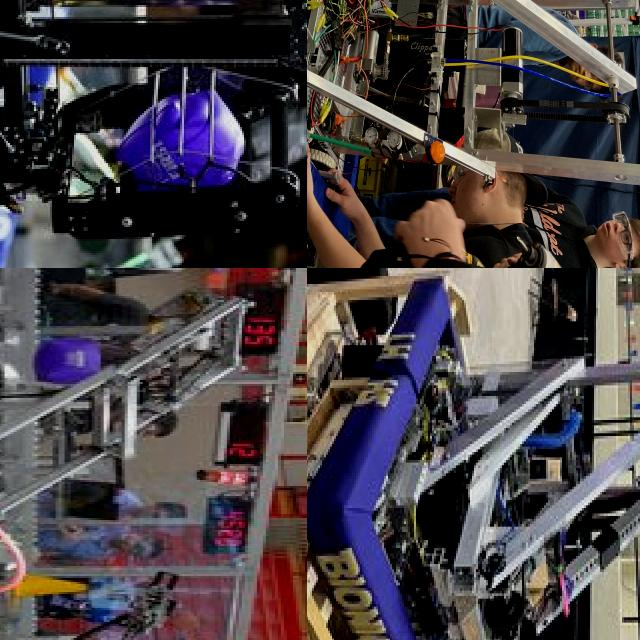FRC-Robots: (317, 268, 640, 640), (0, 268, 307, 640), (307, 0, 640, 263), (0, 0, 307, 268)
